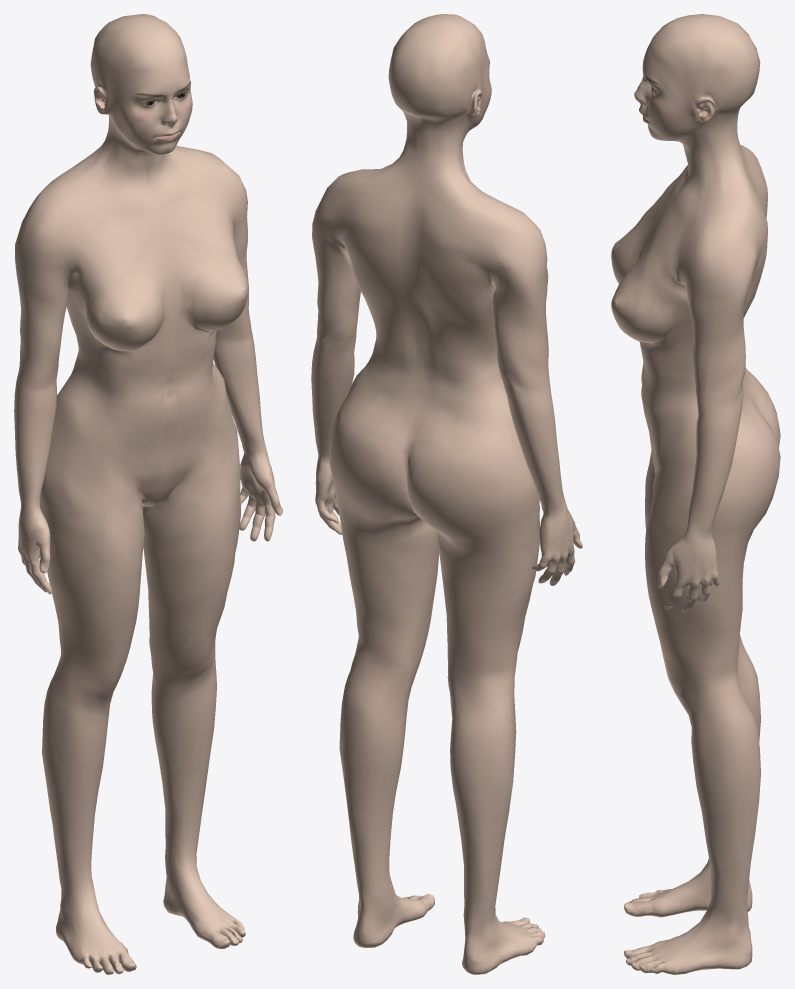
Rendered from woman_east_asian_trial.glb.
3 renders of one model, left to right at view 1: azimuth 30°, elevation 25°; view 2: azimuth 150°, elevation 25°; view 3: azimuth 270°, elevation 25°, orthographic.
Parts seen in each view (by area): view 1: basemesh_female_body; view 2: basemesh_female_body; view 3: basemesh_female_body.
Boxes of the visible parts, x1,y1,x2,y2 form: basemesh_female_body: (14, 14, 282, 974); basemesh_female_body: (311, 14, 582, 974); basemesh_female_body: (611, 14, 780, 974).
Bounding box in the file's own units: 0.448 × 1.59 × 0.2653.
Materials: 3 (2 with a texture image).
